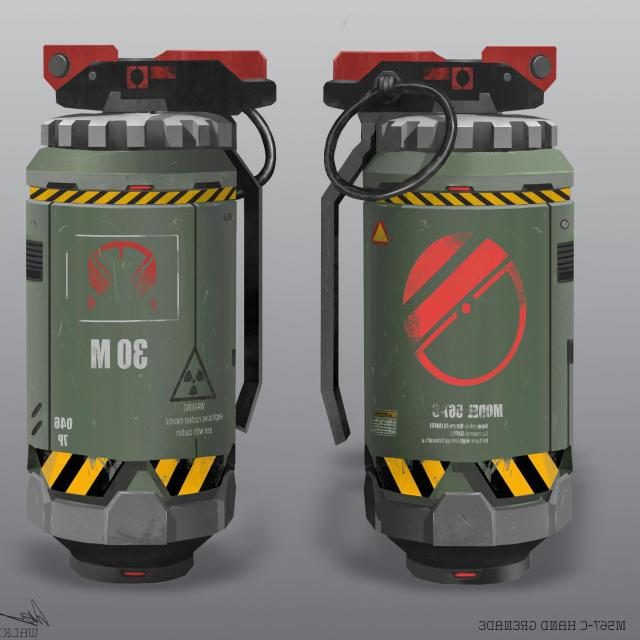grenade: (321, 43, 575, 587), (26, 45, 278, 585)
